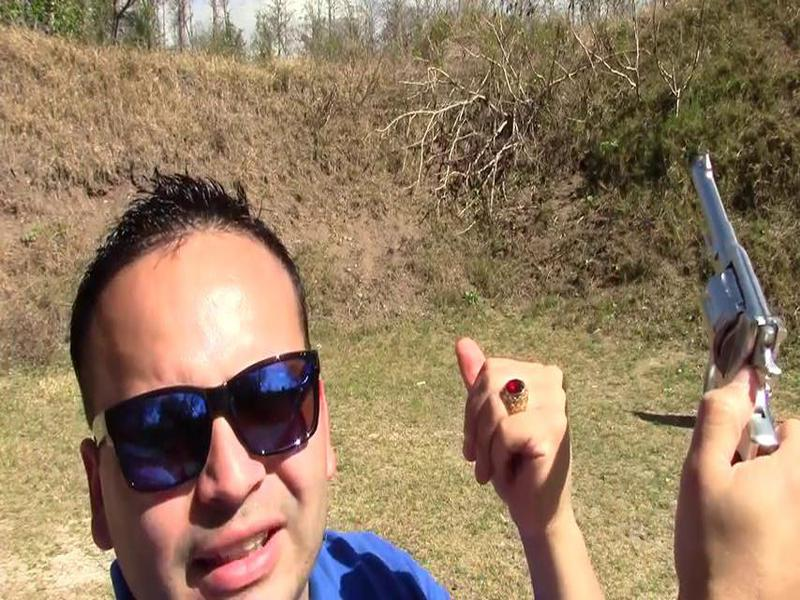Revolver: (671, 148, 795, 456)
